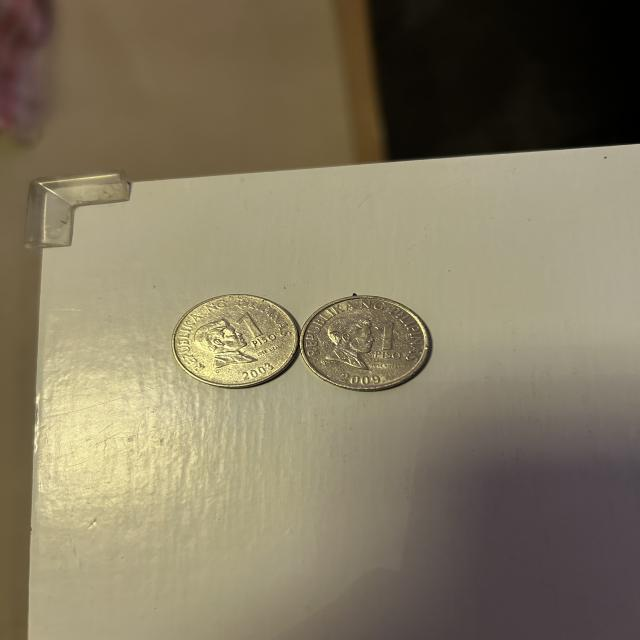1_Old_Front: (240, 312, 276, 351), (371, 320, 402, 364)
